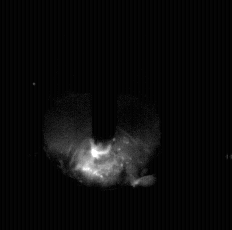arame: (92, 0, 117, 148)
poca: (43, 0, 161, 230)
